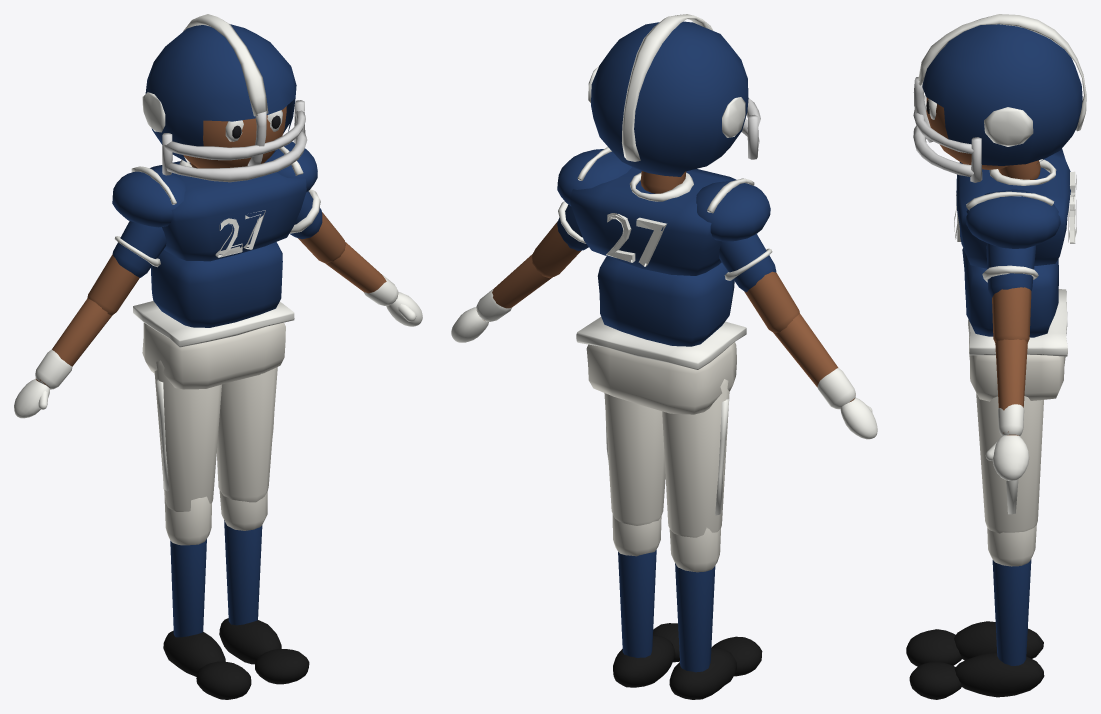
File: clay.glb
3 views of the same model, side by side, from view 1: azimuth 30°, elevation 25°; view 2: azimuth 150°, elevation 25°; view 3: azimuth 270°, elevation 25° (orthographic). The views are drawn at different scales.
Visible parts, largest first — view 1: head, thorax, pelvis, lumbar, thighR, thighL, shankR, shankL, upperArmR, forearmR, upperArmL, forearmL (+6 smaller); view 2: head, thorax, pelvis, lumbar, thighR, thighL, shankR, shankL, upperArmR, forearmR, upperArmL, forearmL (+6 smaller); view 3: head, thorax, thighL, shankL, pelvis, upperArmL, lumbar, footL, forearmL, footR, toesR, toesL (+2 smaller).
Part boxes in pixels (<box>): head: <box>142,14,307,182</box>; thorax: <box>112,141,317,261</box>; pelvis: <box>133,301,294,389</box>; lumbar: <box>151,242,282,327</box>; thighR: <box>154,360,221,511</box>; thighL: <box>216,367,277,502</box>; shankR: <box>164,496,211,637</box>; shankL: <box>219,490,267,625</box>; upperArmR: <box>87,221,166,315</box>; forearmR: <box>35,298,112,389</box>; upperArmL: <box>289,189,345,263</box>; forearmL: <box>325,242,398,305</box>; head: <box>588,14,760,176</box>; thorax: <box>557,147,770,275</box>; pelvis: <box>576,317,746,414</box>; lumbar: <box>597,256,734,346</box>; thighR: <box>662,379,729,537</box>; thighL: <box>604,393,665,525</box>; shankR: <box>669,527,720,672</box>; shankL: <box>612,514,661,657</box>; upperArmR: <box>718,234,799,333</box>; forearmR: <box>773,313,855,409</box>; upperArmL: <box>531,201,588,278</box>; forearmL: <box>476,254,552,321</box>; head: <box>913,14,1086,182</box>; thorax: <box>954,149,1076,268</box>; thighL: <box>976,393,1043,533</box>; shankL: <box>987,524,1036,665</box>; pelvis: <box>968,289,1067,401</box>; upperArmL: <box>982,243,1038,342</box>; lumbar: <box>962,248,1058,337</box>; footL: <box>954,652,1044,697</box>; forearmL: <box>995,339,1027,435</box>; footR: <box>954,621,1043,660</box>; toesR: <box>906,629,961,666</box>; toesL: <box>909,662,961,699</box>.
Bounding box in the file's own units: 1.39 × 2.1 × 0.517.
